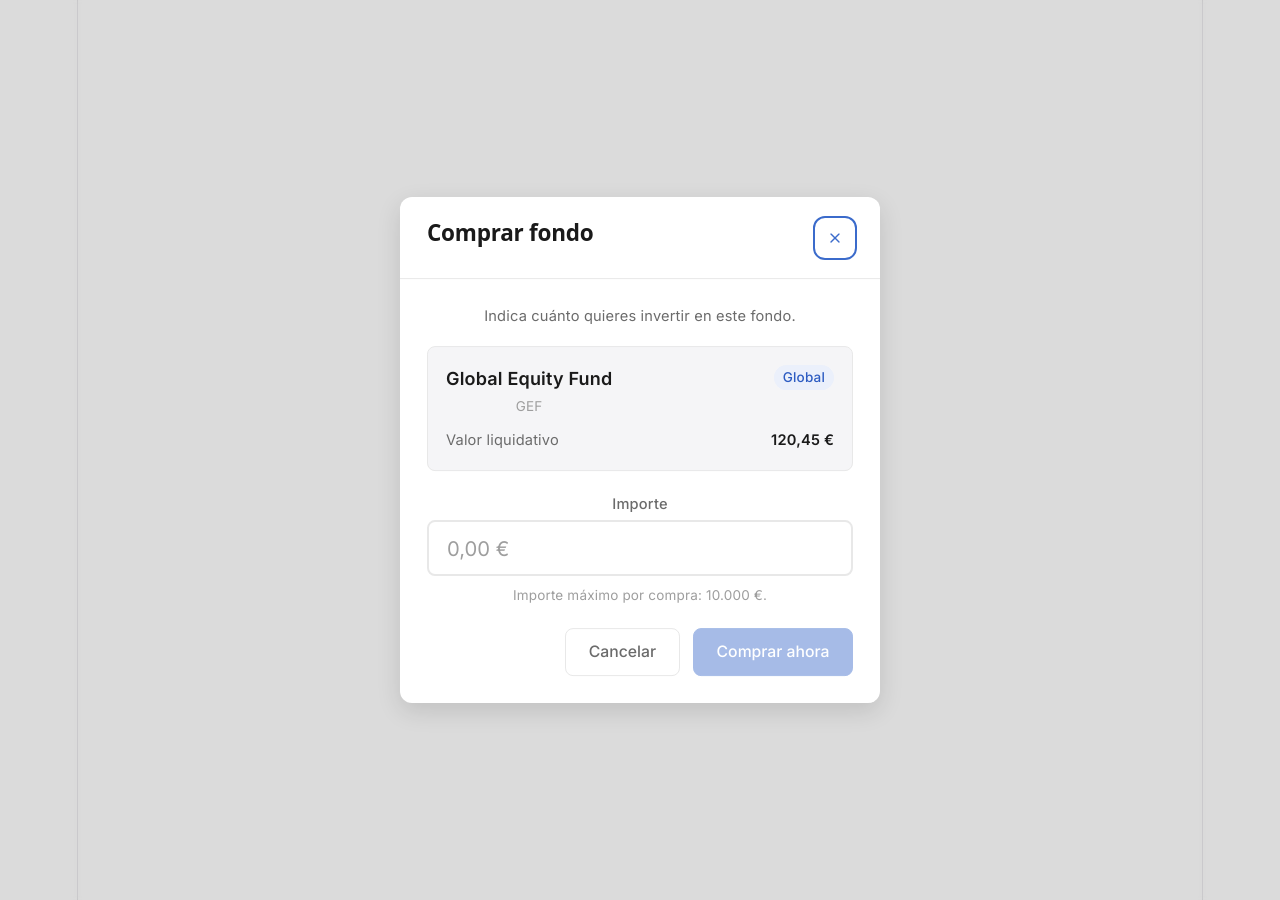
Test case: BuyDialog › shows generic error toast and keeps inline server error when the request fails
The width and height of the screenshot is (1280, 900).
In the field labelled "Importe": (640, 548) [427,520,853,576], type "500"
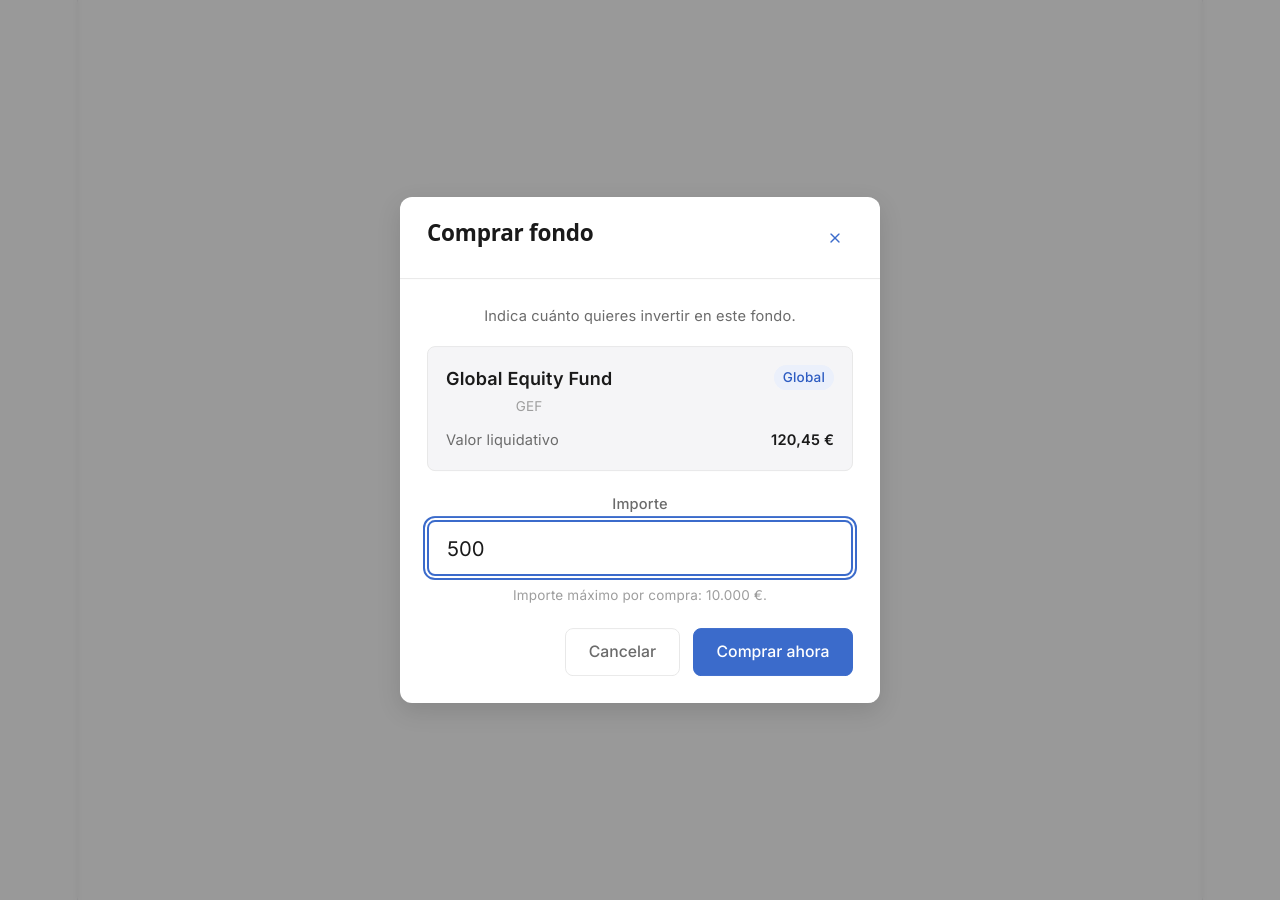
Click the button "Comprar ahora": click(773, 652) [693,628,853,676]
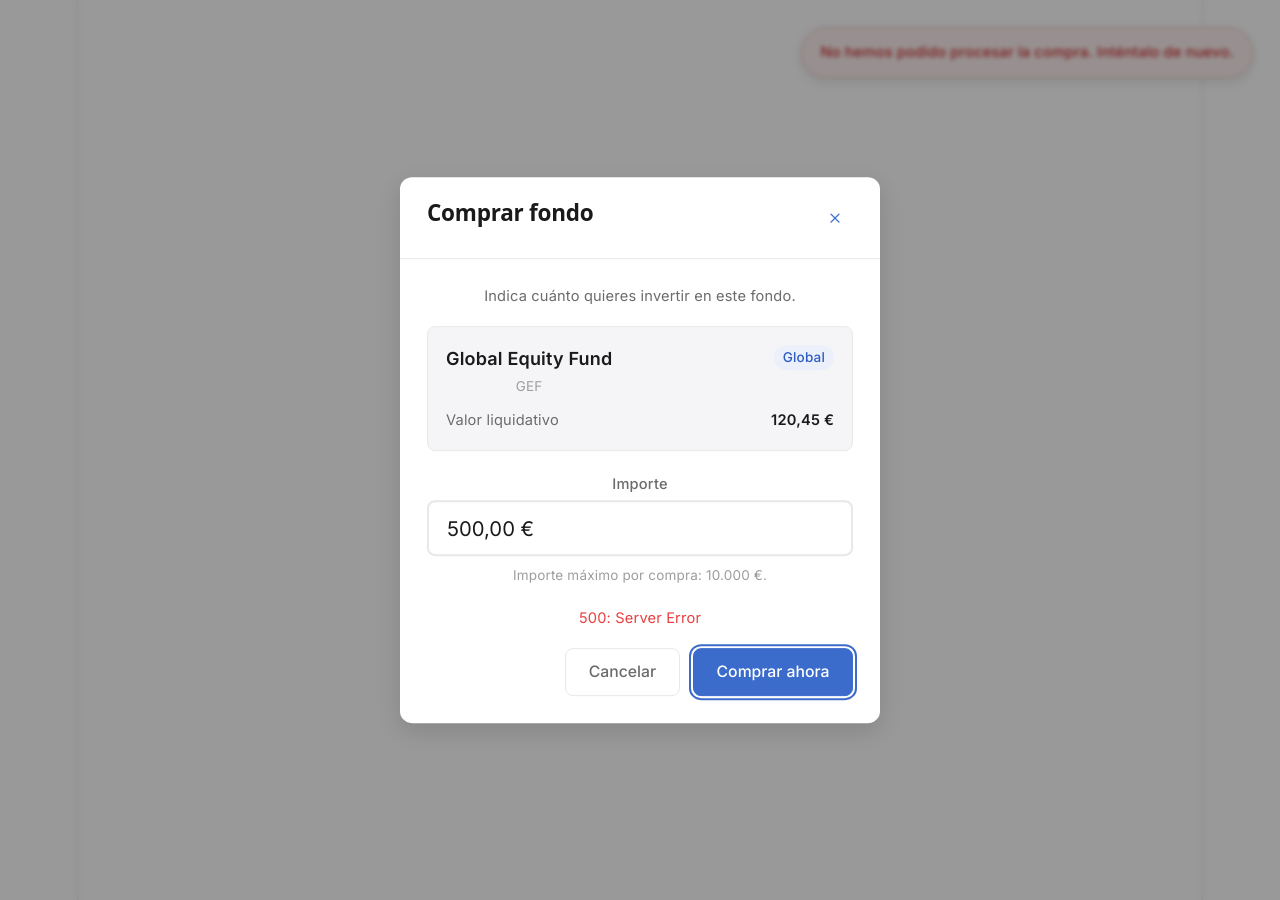
Expected: the text "500: Server Error" is shown, [579,609,701,627]
Expected: the text "No hemos podido procesar la compra. Inténtalo de nuevo." is shown, [802,27,1253,78]
